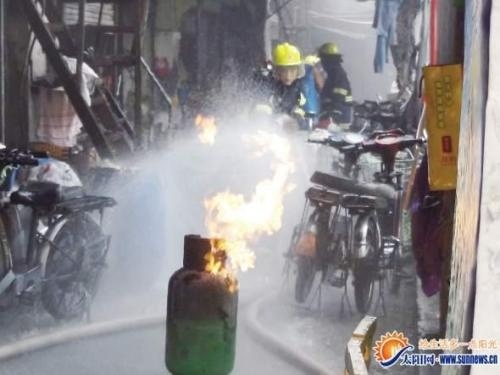fire: (197, 117, 295, 281), (193, 112, 218, 145)
